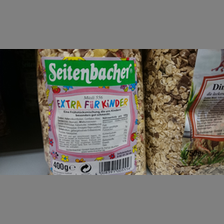cereal: (37, 49, 149, 177), (147, 49, 224, 177)
